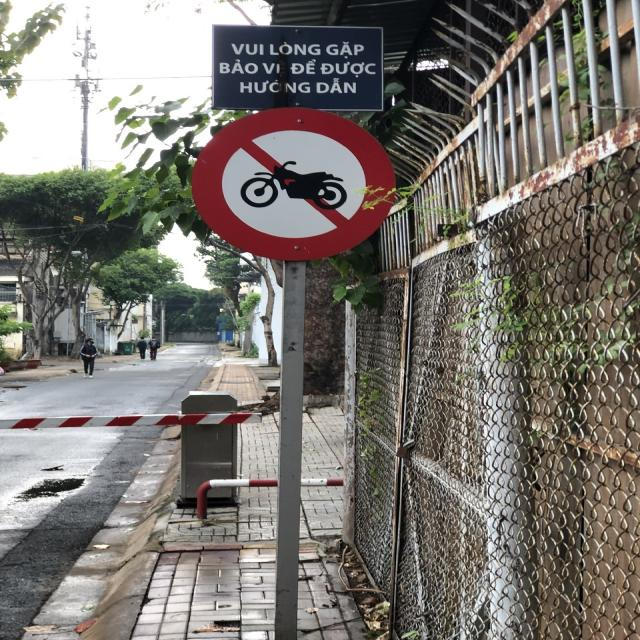Bien bao cam xe may: (188, 104, 404, 270)
